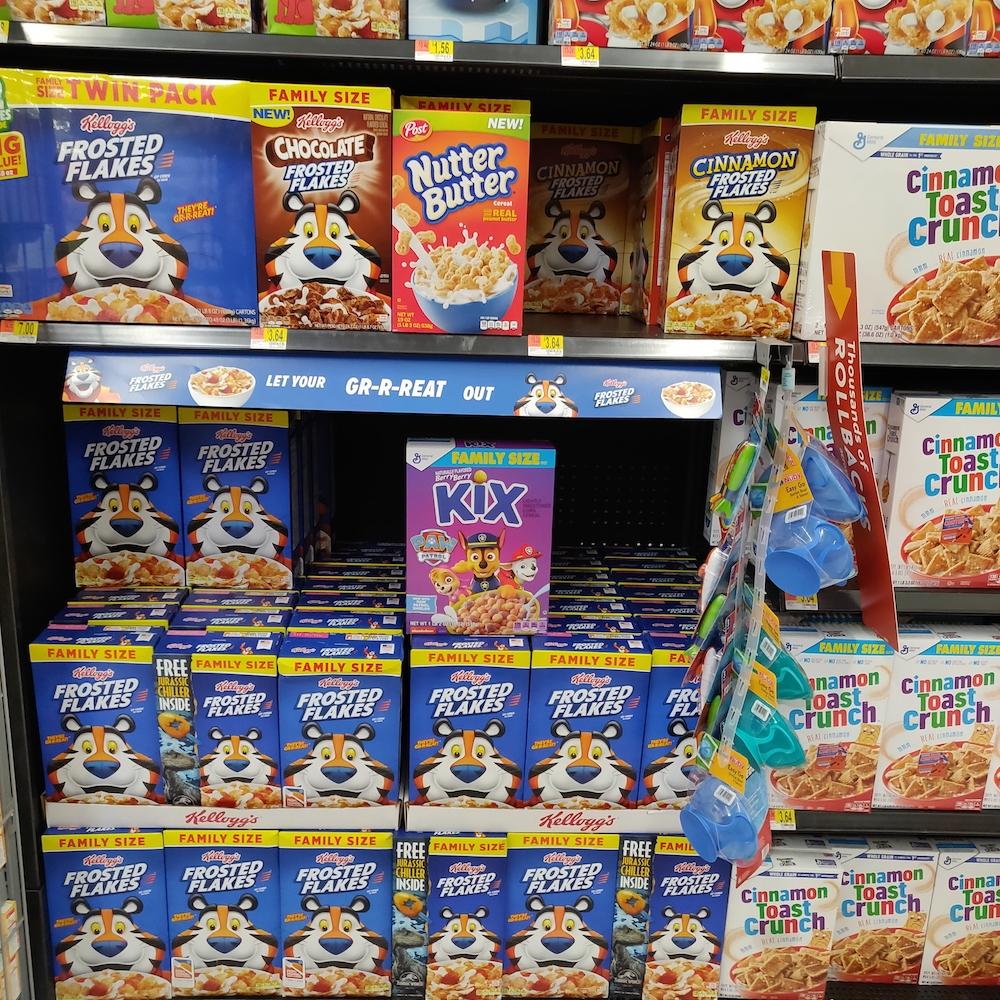Kix Berry -568919964: (401, 438, 562, 635)
Nutter Butter-565717511: (391, 108, 523, 331)
